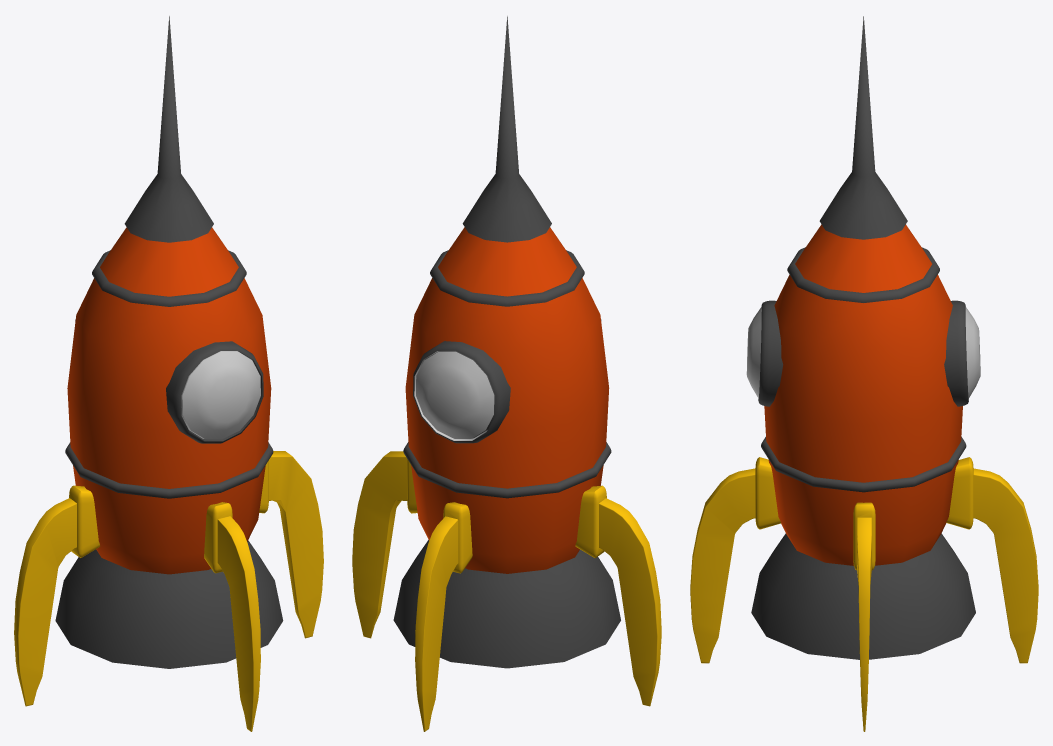
The model's file is Rocket_1.fbx.
The picture shows the model from 3 angles, left to right: view 1: azimuth 30°, elevation 25°; view 2: azimuth 150°, elevation 25°; view 3: azimuth 270°, elevation 25°; orthographic projection.
Visible parts, largest first — view 1: Rocket_1; view 2: Rocket_1; view 3: Rocket_1.
Boxes of the visible parts, left/top/right/bottom form: Rocket_1: left=14, top=16, right=323, bottom=731; Rocket_1: left=352, top=16, right=661, bottom=731; Rocket_1: left=690, top=16, right=1038, bottom=731.
Size of the model in its own units: 0.3624 by 0.7447 by 0.3624.
